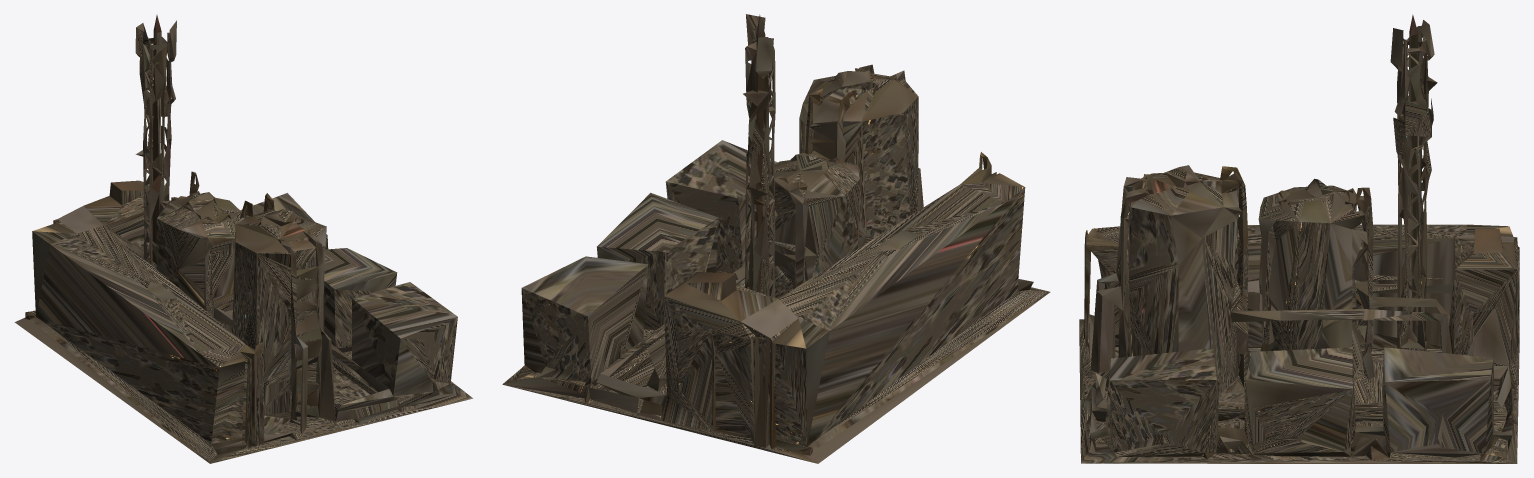
File: s08_far.glb
3 renders of one model, left to right at view 1: azimuth 30°, elevation 25°; view 2: azimuth 150°, elevation 25°; view 3: azimuth 270°, elevation 25°, orthographic. The views are drawn at different scales.
Visible parts, largest first — view 1: s08_far; view 2: s08_far; view 3: s08_far.
Boxes of the visible parts, bbox=[...] form: s08_far: bbox=[14, 15, 472, 463]; s08_far: bbox=[502, 14, 1050, 463]; s08_far: bbox=[1079, 14, 1519, 463].
Bounding box in the file's own units: 6.95 × 8 × 8.9.
1 material, 1 textured.
